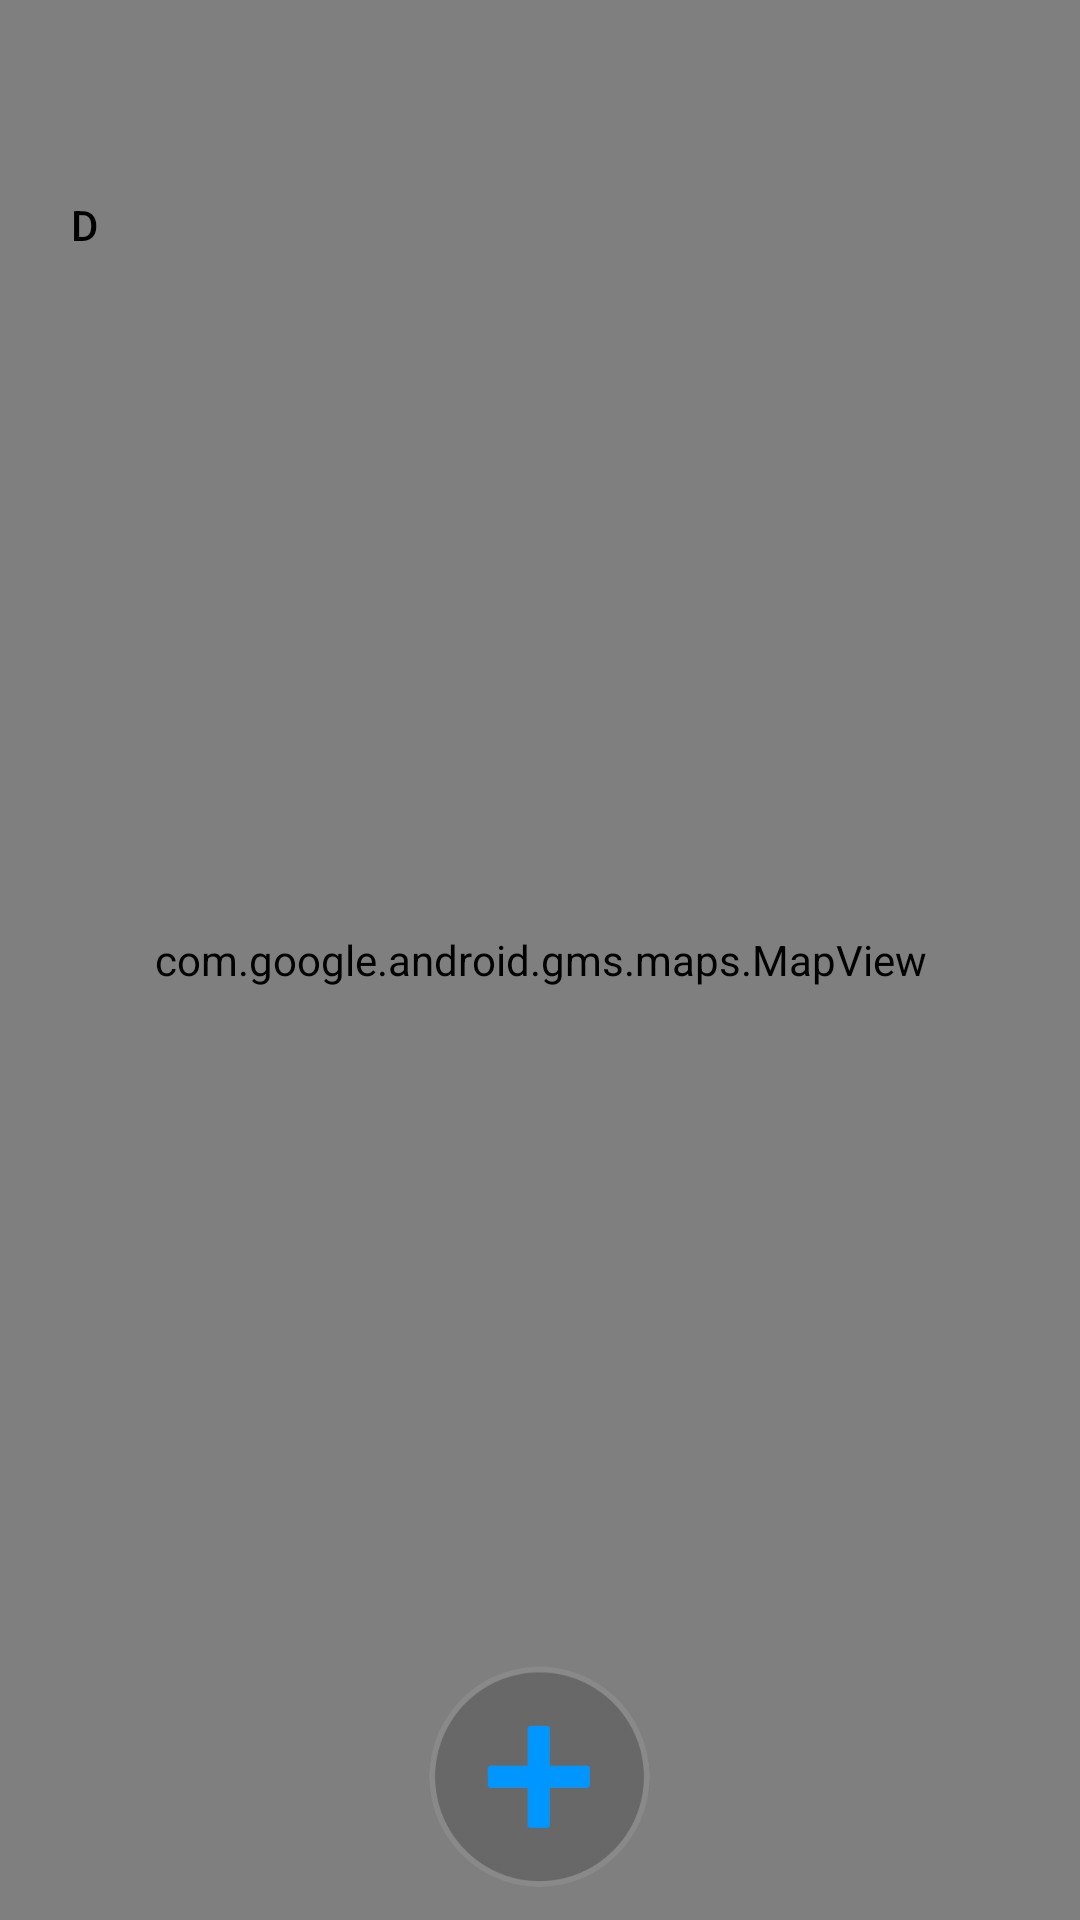

Icons on this 1080w x 1920h Android screen, each with its box as [x1=x1, y1=y1, x2=x2, y2=y2]:
add: [x1=429, y1=1667, x2=650, y2=1887]
